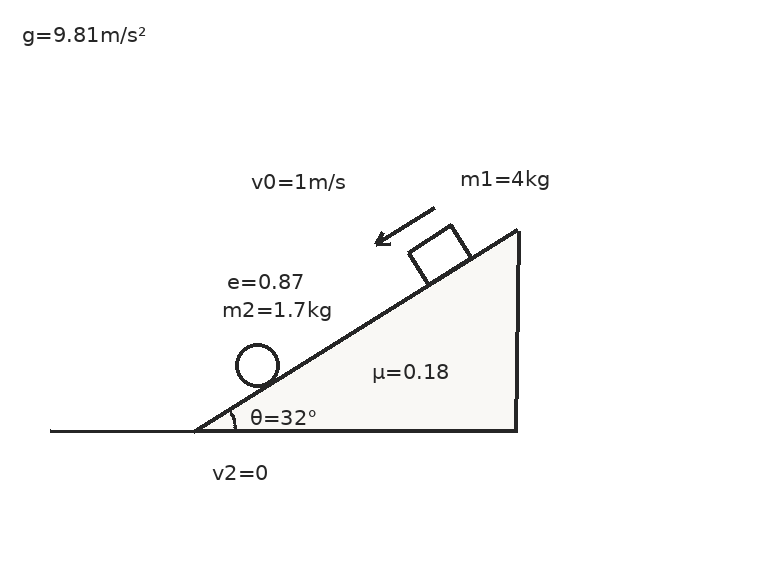ball: (233, 341, 281, 389)
block: (406, 224, 473, 286)
ramp: (193, 227, 518, 432)
